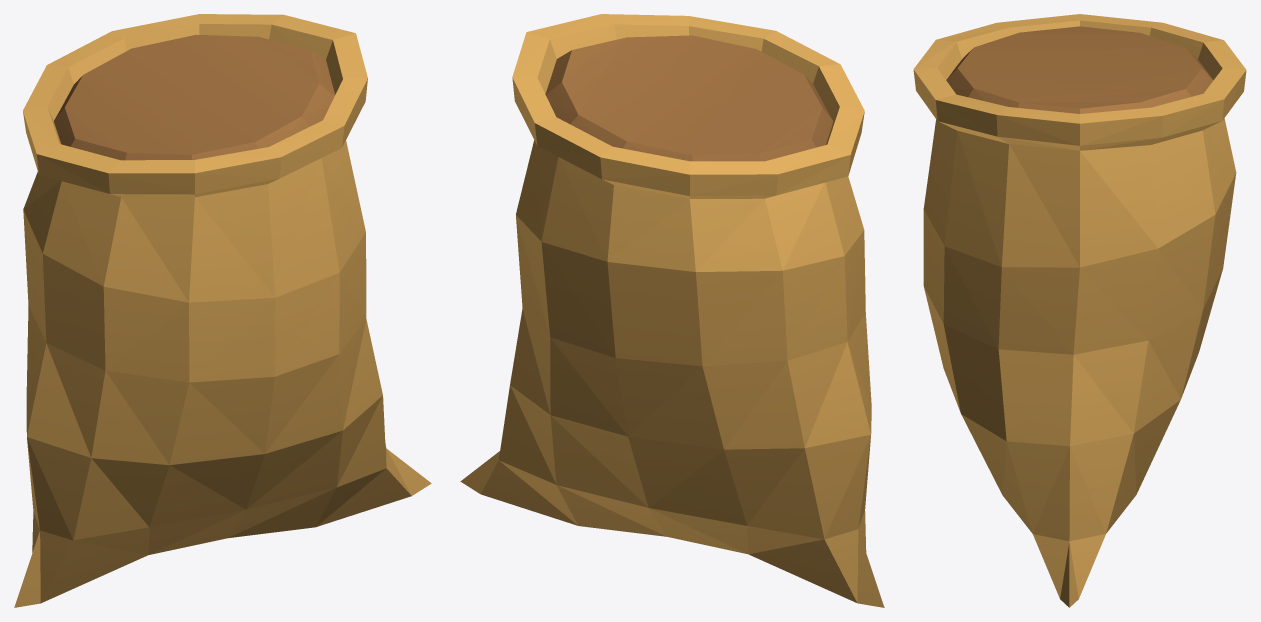
Rendered from Prop_Sack_01.obj.
3 renders of one model, left to right at view 1: azimuth 30°, elevation 25°; view 2: azimuth 150°, elevation 25°; view 3: azimuth 270°, elevation 25°, orthographic. The views are drawn at different scales.
Visible parts, largest first — view 1: Prop_Sack_01; view 2: Prop_Sack_01; view 3: Prop_Sack_01.
Boxes of the visible parts, bbox=[...] form: Prop_Sack_01: bbox=[14, 14, 431, 607]; Prop_Sack_01: bbox=[460, 14, 884, 607]; Prop_Sack_01: bbox=[913, 14, 1246, 607].
Size of the model in its own units: 0.5115 by 0.5688 by 0.3631.
Materials: 1 (1 with a texture image).
